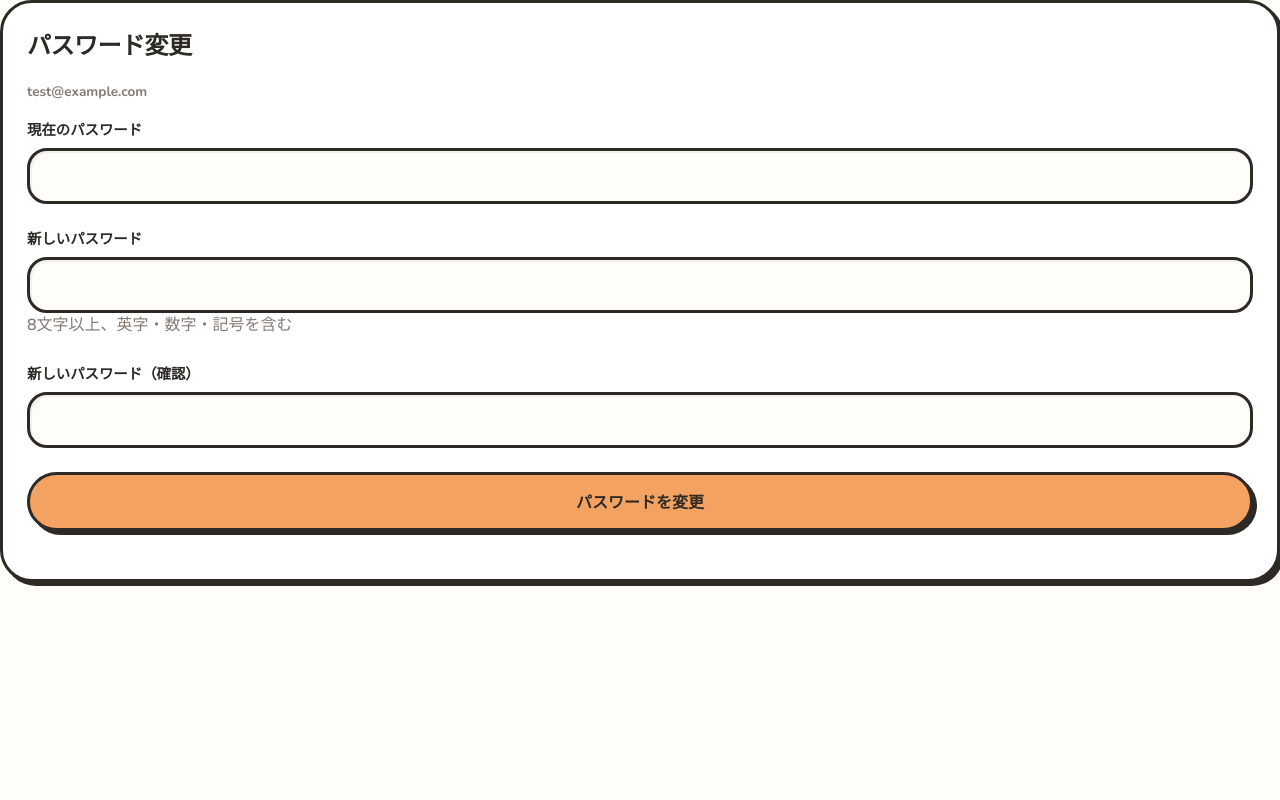
Test case: ChangePasswordPage › バリデーション › 現在のパスワード未入力でsubmitするとバリデーションエラーが表示される
This screenshot has width=1280, height=800.
Step 1. Click the button "パスワードを変更" → (640, 501), box [27,472,1253,531]
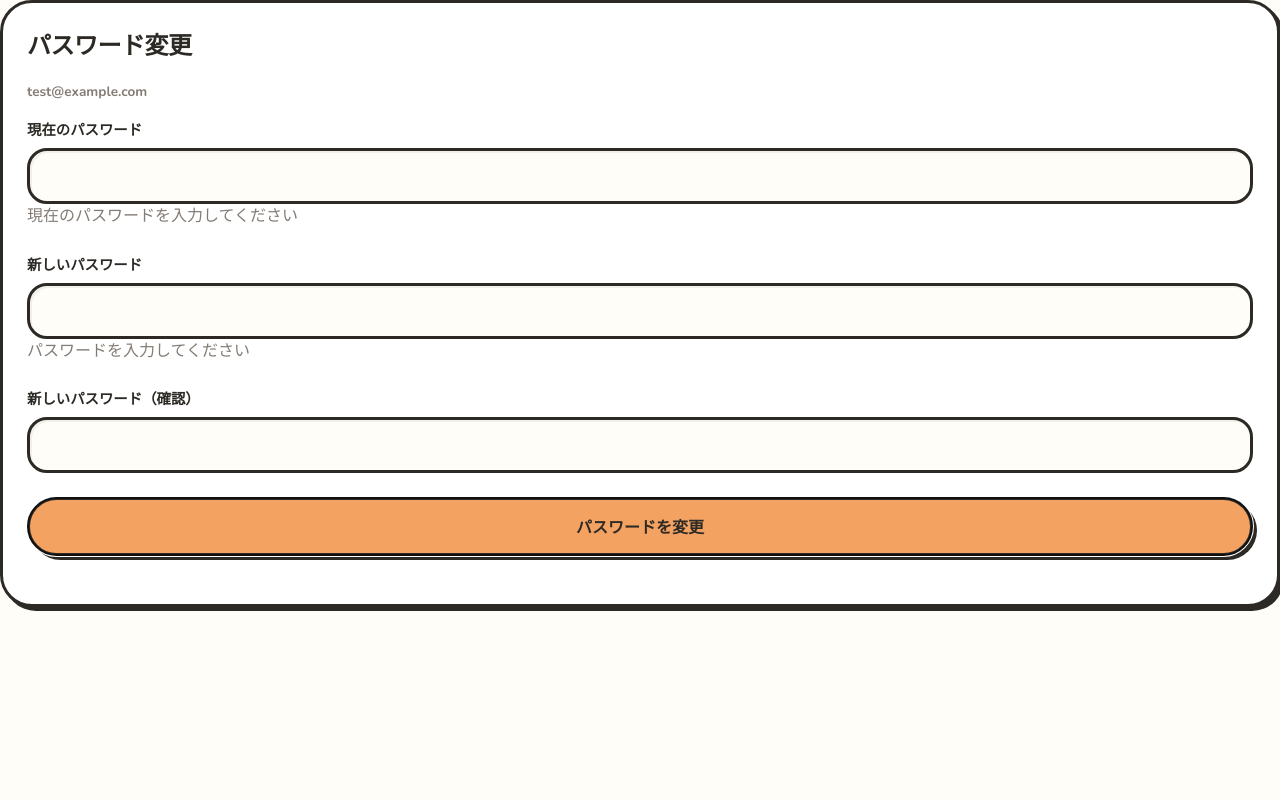
Now the text "現在のパスワードを入力してください" is shown, box [27,205,298,227]
